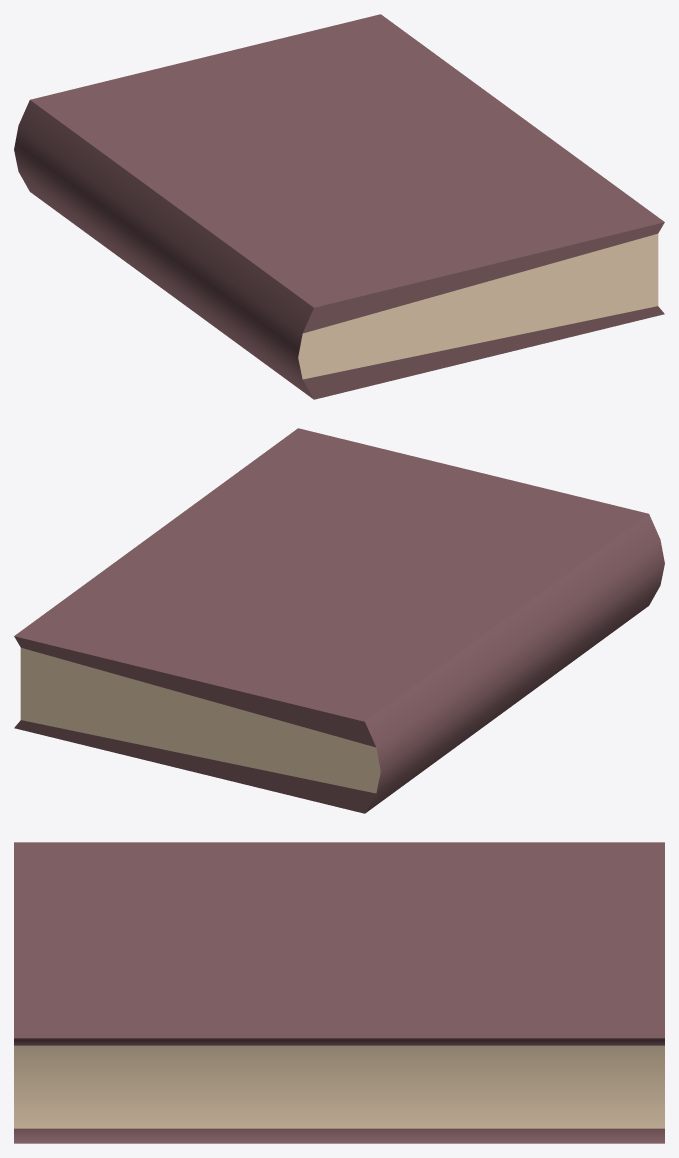
The model's file is closebook02.fbx.
The picture shows the model from 3 angles, top to bottom: view 1: azimuth 30°, elevation 25°; view 2: azimuth 150°, elevation 25°; view 3: azimuth 270°, elevation 25°; orthographic projection. The views are drawn at different scales.
Parts seen in each view (by area): view 1: pCube6; view 2: pCube6; view 3: pCube6.
Boxes of the visible parts, x1,y1,x2,y2 form: pCube6: [14, 14, 664, 399]; pCube6: [14, 428, 664, 813]; pCube6: [14, 842, 664, 1143].
Bounding box in the file's own units: 2.52 × 0.6039 × 3.38.
